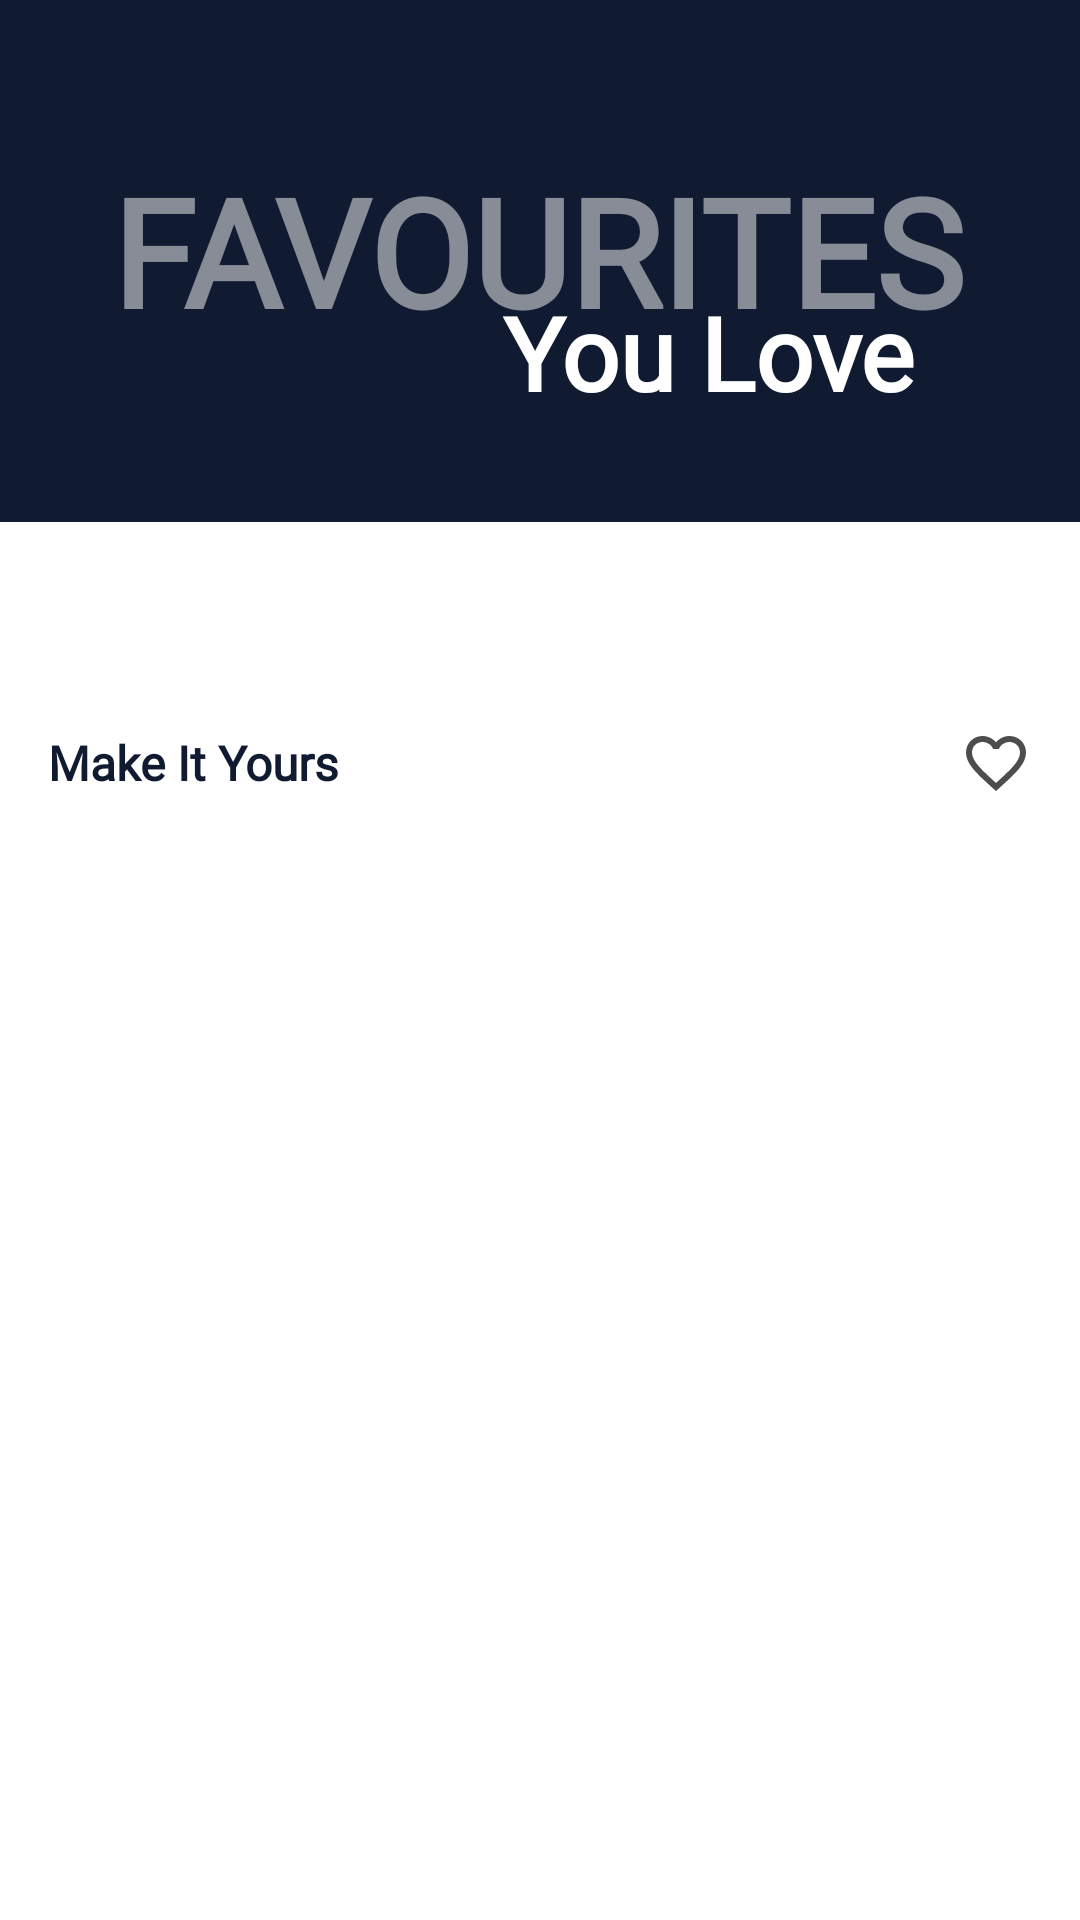

Locate icon controls on the screen. Image size 1080w x 1920h, boxes as (x1, y1, x2, y2).
favorite: (966, 736, 1026, 791)
